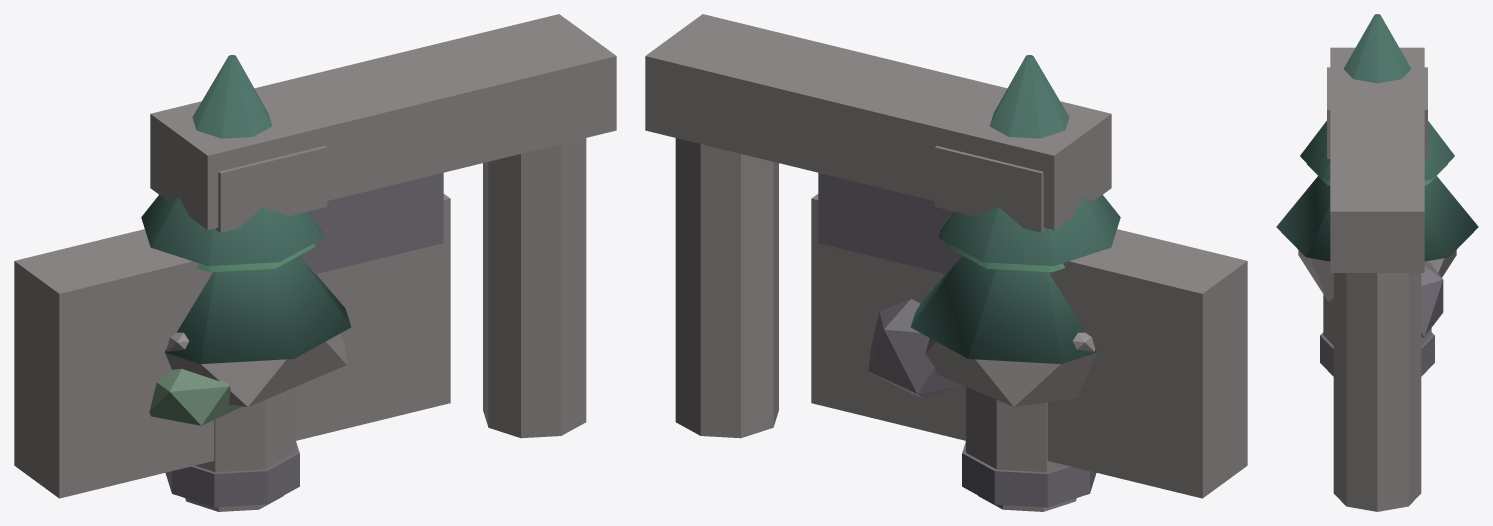
File: kit.glb
3 views of the same model, side by side, from view 1: azimuth 30°, elevation 25°; view 2: azimuth 150°, elevation 25°; view 3: azimuth 270°, elevation 25° (orthographic). The views are drawn at different scales.
Visible parts, largest first — view 1: arch, wall, pine_dark, column, rock_l, pine; view 2: arch, wall, pine_dark, column, rock_l, pine; view 3: arch, pine_dark, rock_l, column.
Part boxes in pixels (<box>): arch: <box>150,14,616,511</box>; wall: <box>14,173,450,498</box>; pine_dark: <box>141,55,350,363</box>; column: <box>165,146,327,507</box>; rock_l: <box>149,332,346,425</box>; pine: <box>196,243,315,272</box>; arch: <box>645,14,1111,511</box>; wall: <box>811,173,1247,498</box>; pine_dark: <box>911,55,1120,363</box>; column: <box>934,146,1096,507</box>; rock_l: <box>868,299,1096,406</box>; pine: <box>946,243,1065,272</box>; arch: <box>1330,47,1424,511</box>; pine_dark: <box>1276,14,1478,261</box>; rock_l: <box>1298,250,1456,337</box>; column: <box>1320,67,1434,376</box>.
Size of the model in its own units: 3.1 by 2.33 by 1.2.
